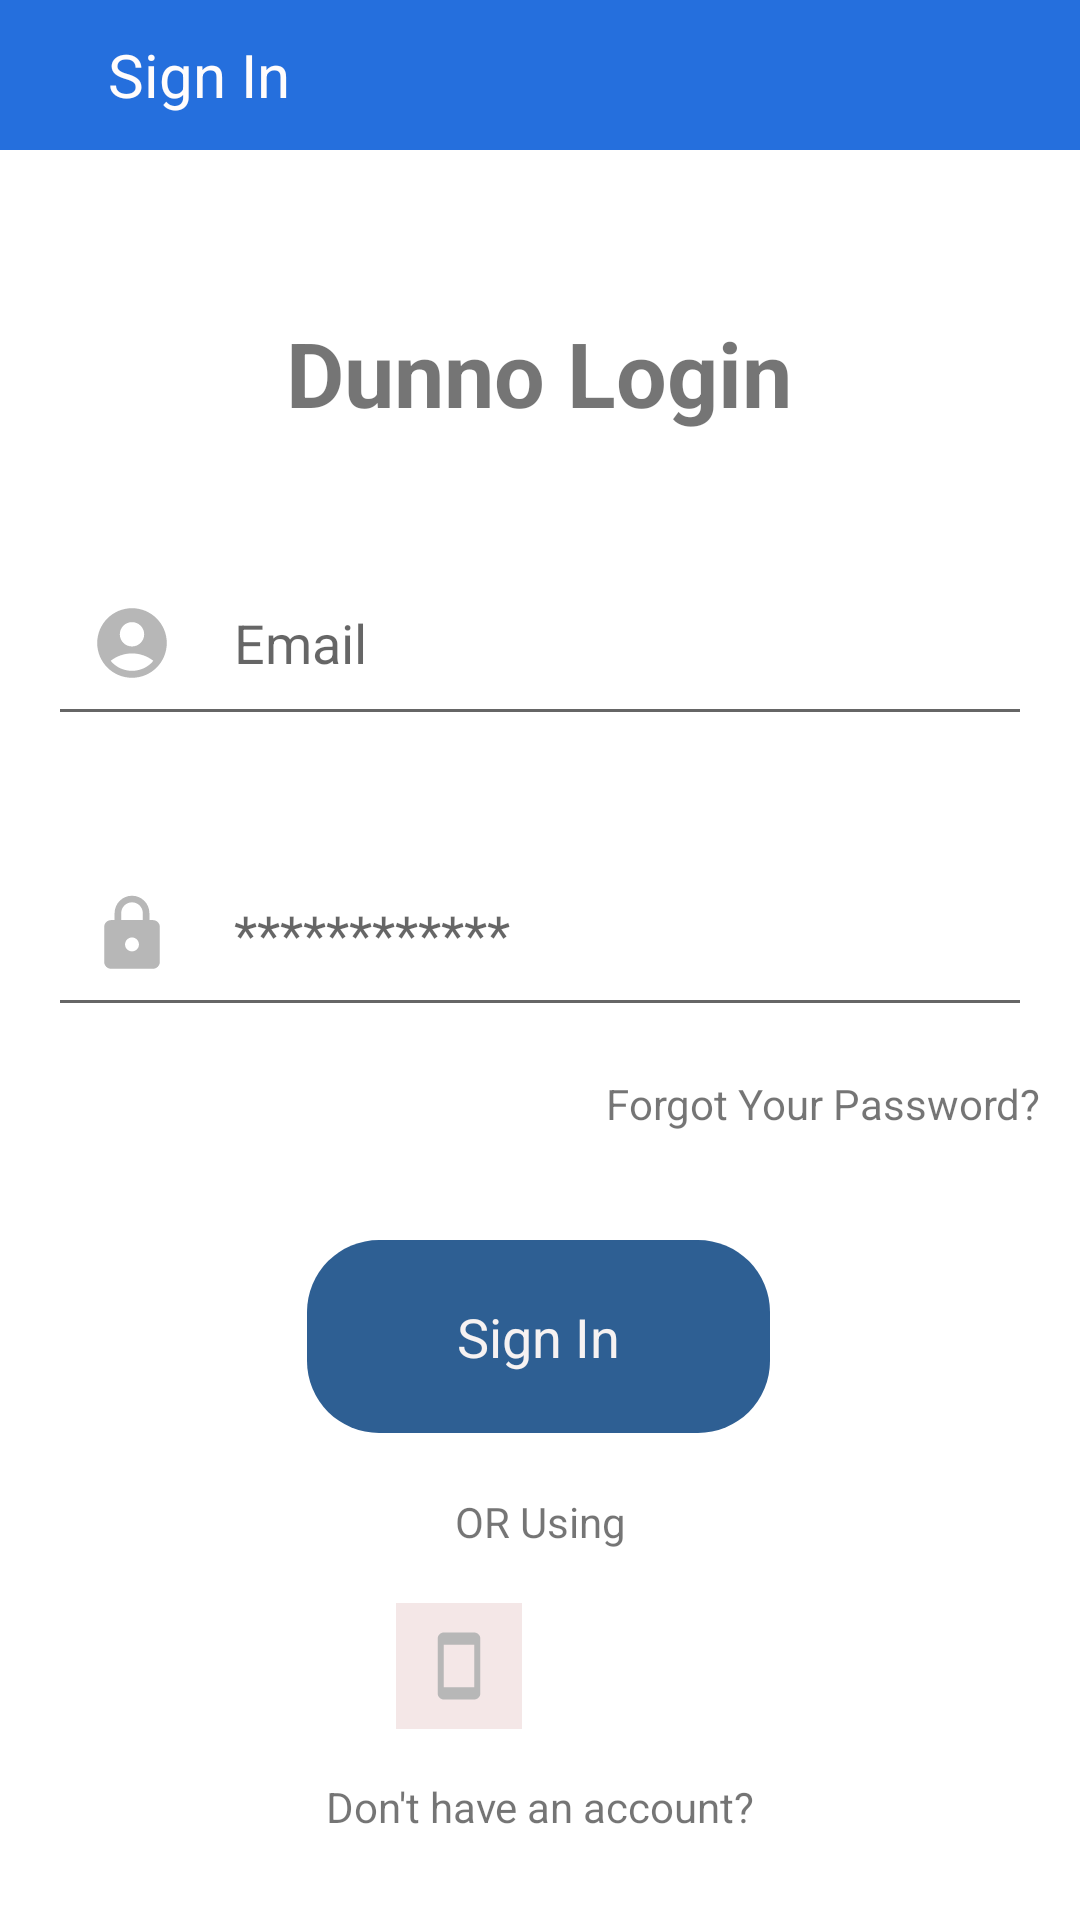

Icon click points for this 1080px×1920px phone screenshot, format (x,y):
phone: (459,1666)
